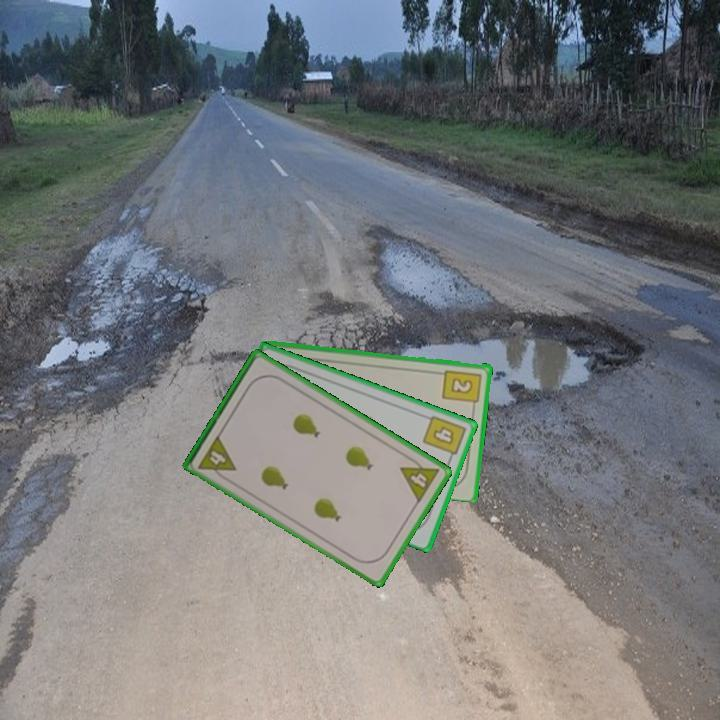2b: (440, 366, 484, 411)
4b: (419, 412, 469, 464)
4p: (397, 452, 443, 506), (195, 431, 239, 484)
